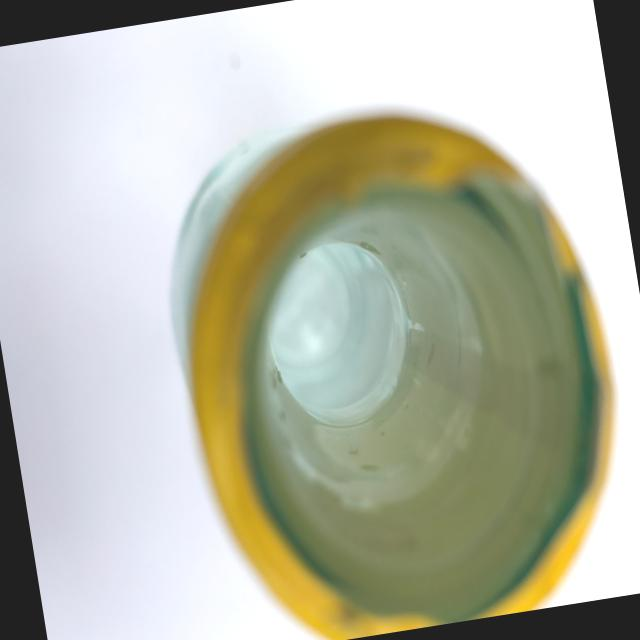Glass: (116, 52, 640, 640)
